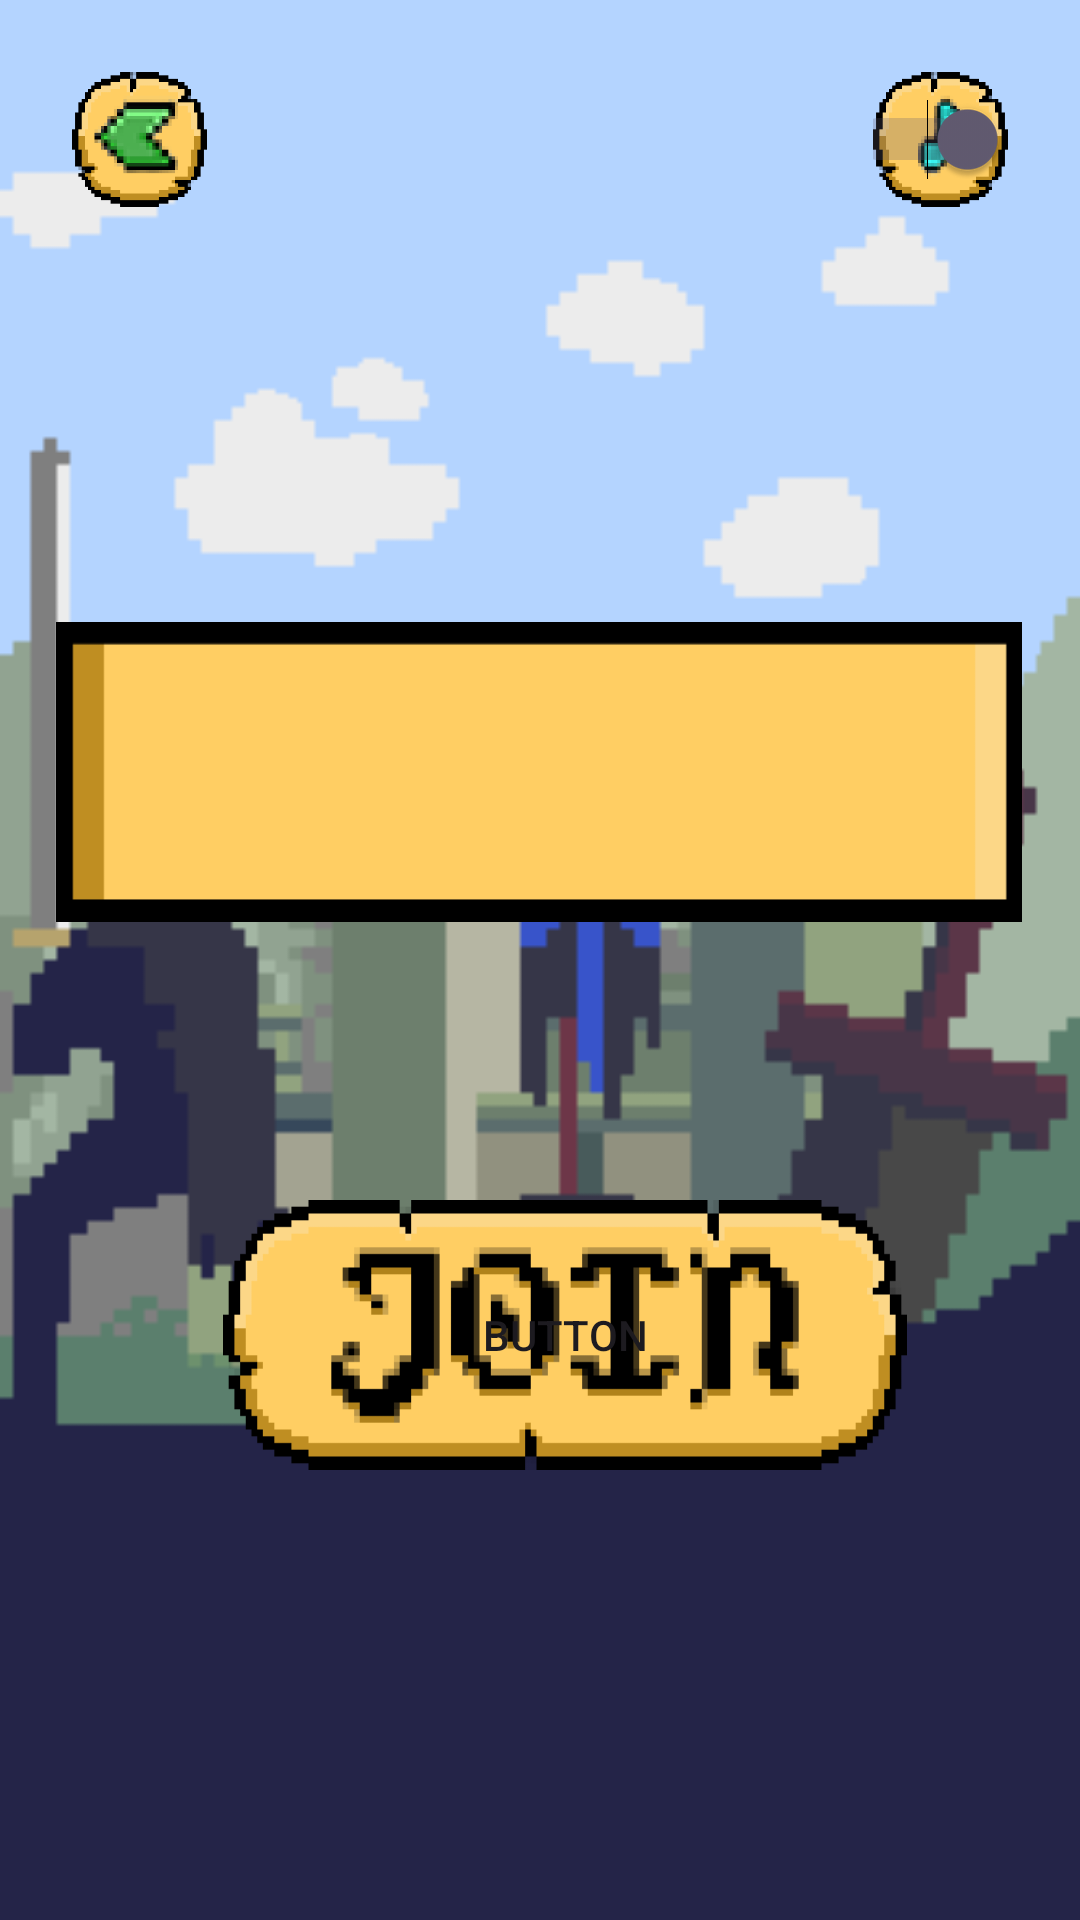

Screen size 1080*1920. Icon name, then its box in pixels as (x1, y1, x2, y2):
backbutton: (72, 72, 207, 207)
